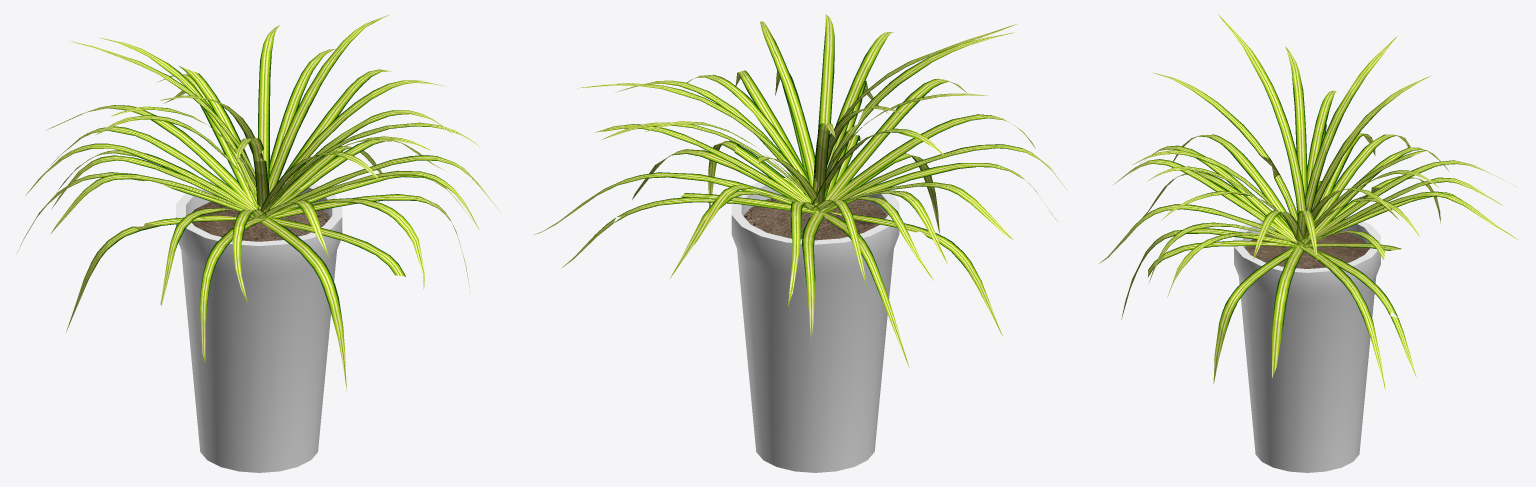
Rendered from Plant 1.FBX.
3 views of the same model, side by side, from view 1: azimuth 30°, elevation 25°; view 2: azimuth 150°, elevation 25°; view 3: azimuth 270°, elevation 25° (orthographic). The views are drawn at different scales.
Parts seen in each view (by area): view 1: Plant 1; view 2: Plant 1; view 3: Plant 1.
Part boxes in pixels (bbox=[...]): Plant 1: bbox=[18, 14, 501, 472]; Plant 1: bbox=[534, 14, 1067, 472]; Plant 1: bbox=[1099, 14, 1518, 472].
Size of the model in its own units: 755 by 687 by 711.
2 materials, 2 textured.
